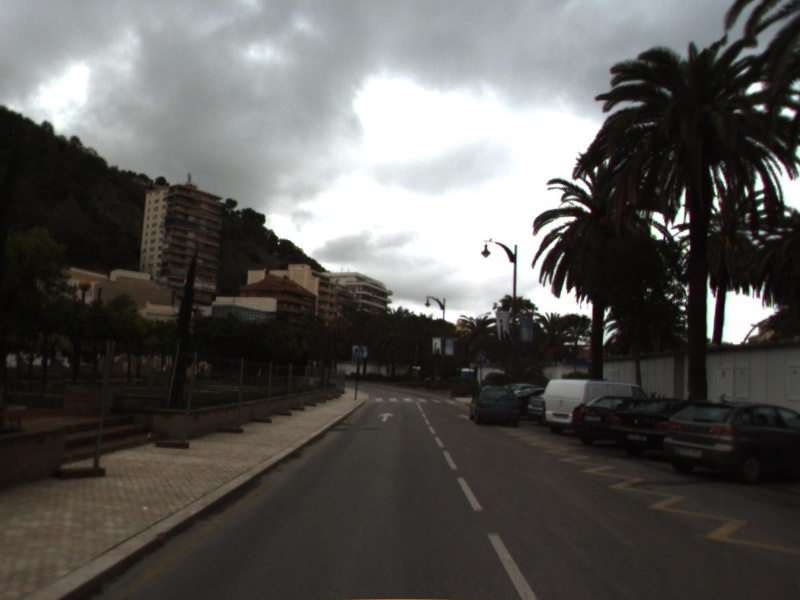STRAIGHT: (456, 412, 477, 426), (376, 411, 396, 424)
